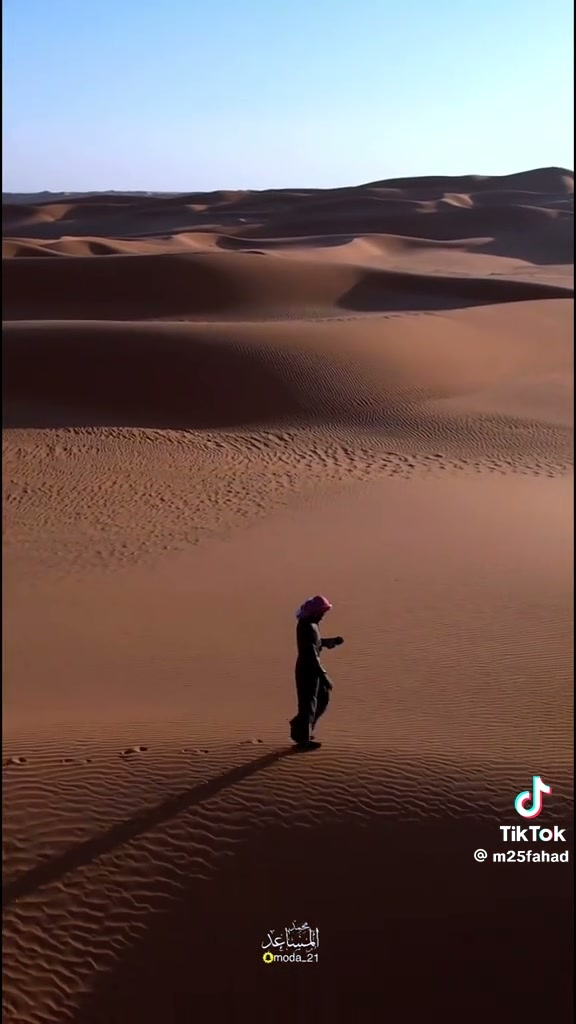human_foot_print: (50, 748, 124, 779), (0, 756, 38, 786), (120, 730, 154, 760), (190, 728, 218, 760), (228, 738, 284, 749)
